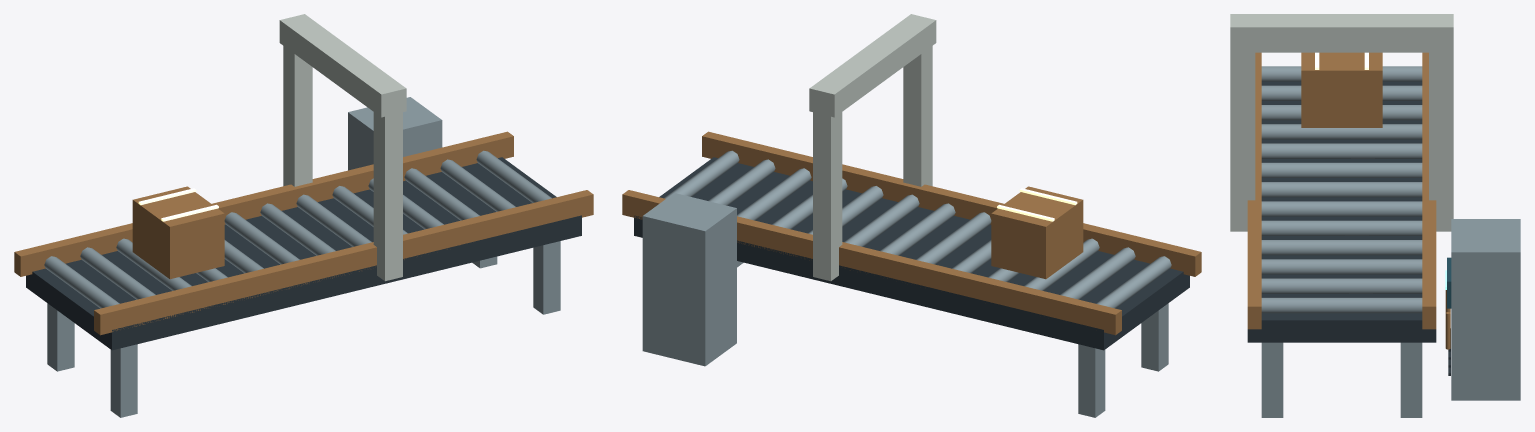
File: parcel-sorter.lod1.glb
The picture shows the model from 3 angles, left to right: view 1: azimuth 30°, elevation 25°; view 2: azimuth 150°, elevation 25°; view 3: azimuth 270°, elevation 25°; orthographic projection. The views are drawn at different scales.
Parts seen in each view (by area): view 1: structure, parcel; view 2: structure, parcel; view 3: structure, parcel.
Boxes of the visible parts, <box> form: structure: <box>14,14,593,417</box>; parcel: <box>132,186,224,279</box>; structure: <box>622,14,1201,417</box>; parcel: <box>991,186,1083,279</box>; structure: <box>1230,14,1520,417</box>; parcel: <box>1301,52,1382,127</box>.
Size of the model in its own units: 6.3 by 3.34 by 2.93.
